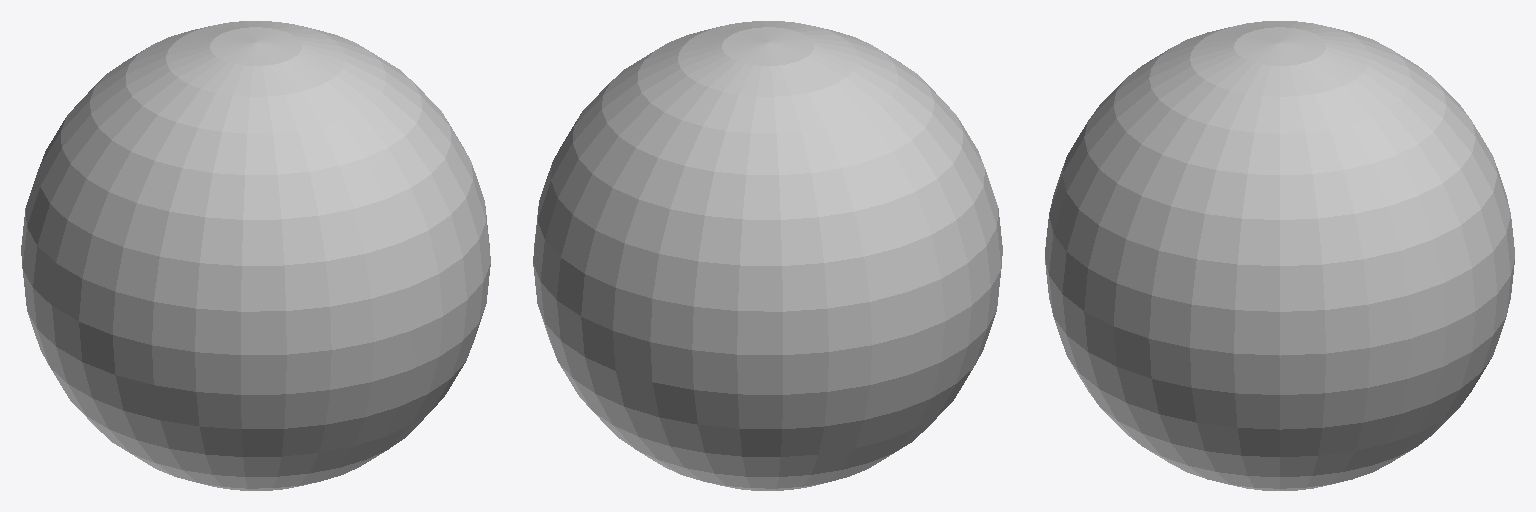
File: cannonBall2.obj
The picture shows the model from 3 angles: view 1: azimuth 30°, elevation 25°; view 2: azimuth 150°, elevation 25°; view 3: azimuth 270°, elevation 25°; orthographic projection.
Parts seen in each view (by area): view 1: Sphere_Sphere.001; view 2: Sphere_Sphere.001; view 3: Sphere_Sphere.001.
Boxes of the visible parts, <box> form: Sphere_Sphere.001: <box>21,21,490,490</box>; Sphere_Sphere.001: <box>533,21,1002,490</box>; Sphere_Sphere.001: <box>1045,21,1514,490</box>.
Size of the model in its own units: 0.4152 by 0.4152 by 0.4152.